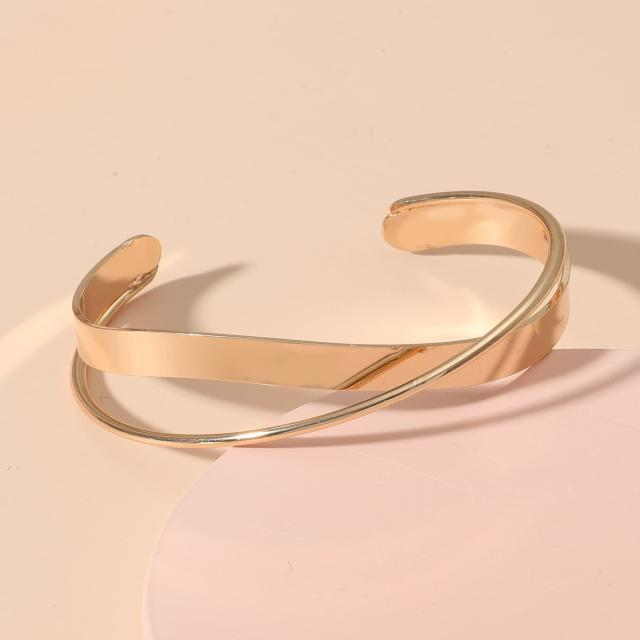bracelet: (27, 152, 640, 493)
